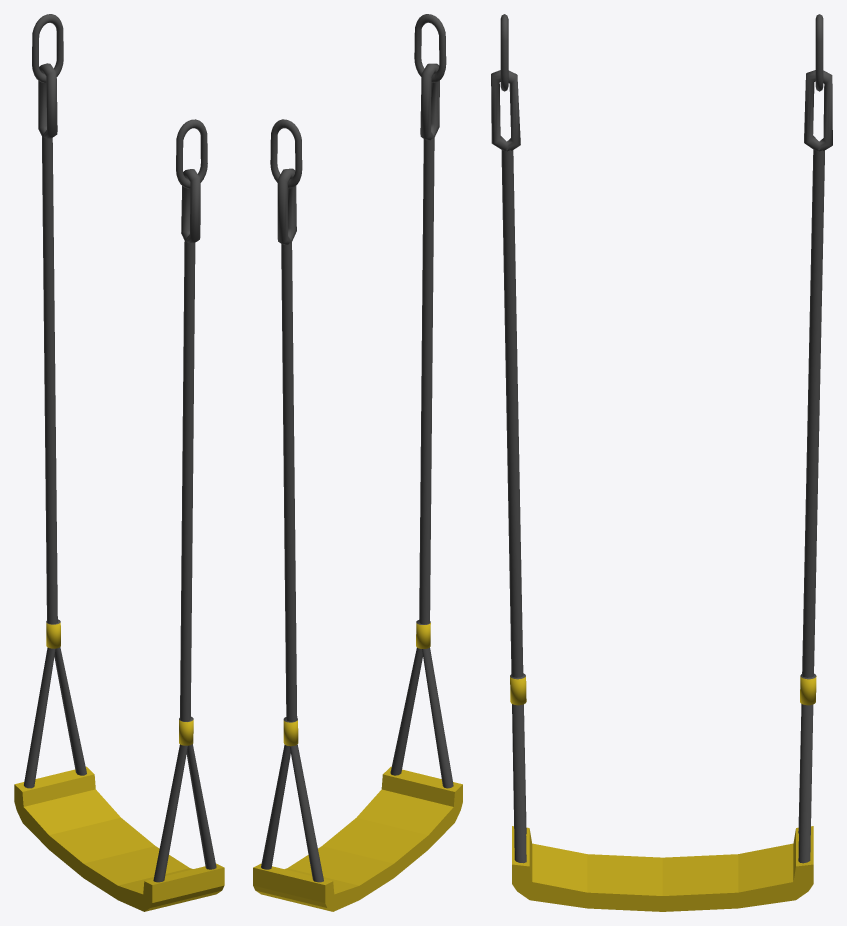
Rendered from columpio2.obj.
The picture shows the model from 3 angles, left to right: view 1: azimuth 30°, elevation 25°; view 2: azimuth 150°, elevation 25°; view 3: azimuth 270°, elevation 25°; orthographic projection. The views are drawn at different scales.
Bounding box in the file's own units: 0.211 × 2.24 × 0.7917.
